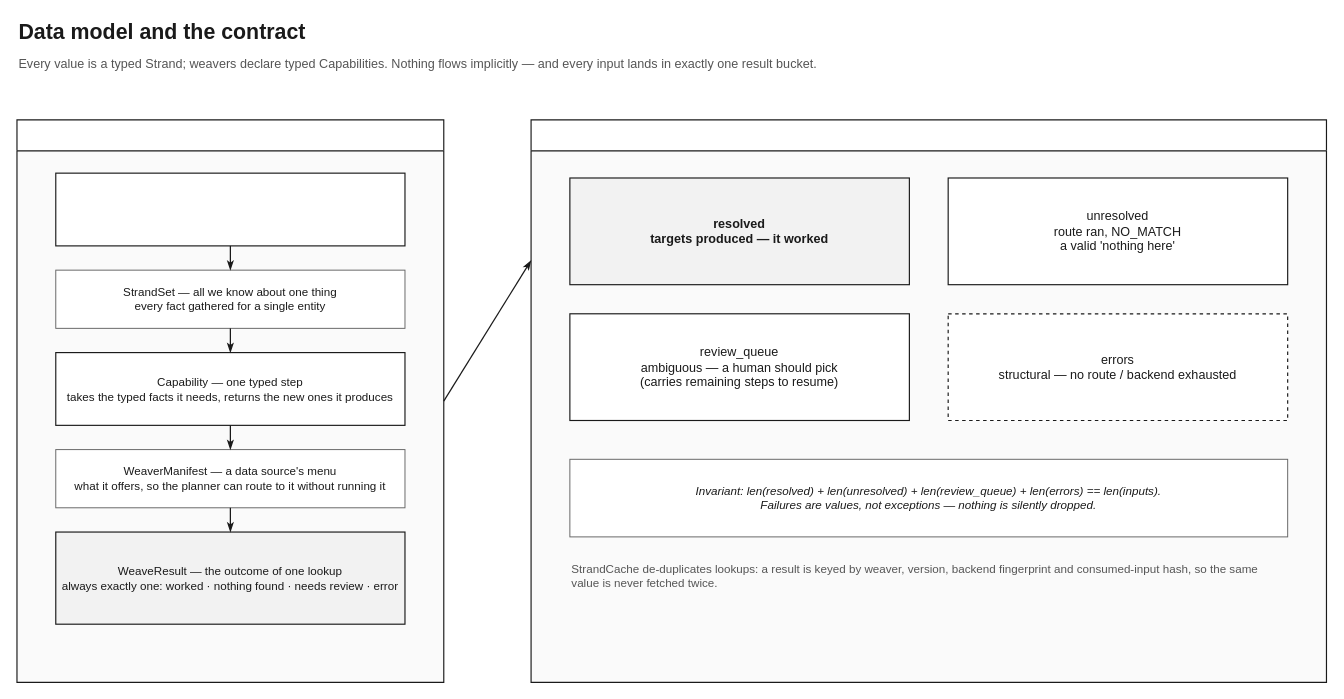
Image size: 1344x699. Some labels were removed from this diagram. The box of each missing label's shape, as (x1, y1, x2, y2) in pixels:
ExecutionResult — four exhaustive buckets: (530, 119, 1327, 682)
Strand — one typed fact a value, its type, and where it came from: (55, 172, 405, 246)
The contract (braidworks-core): (16, 119, 444, 682)
